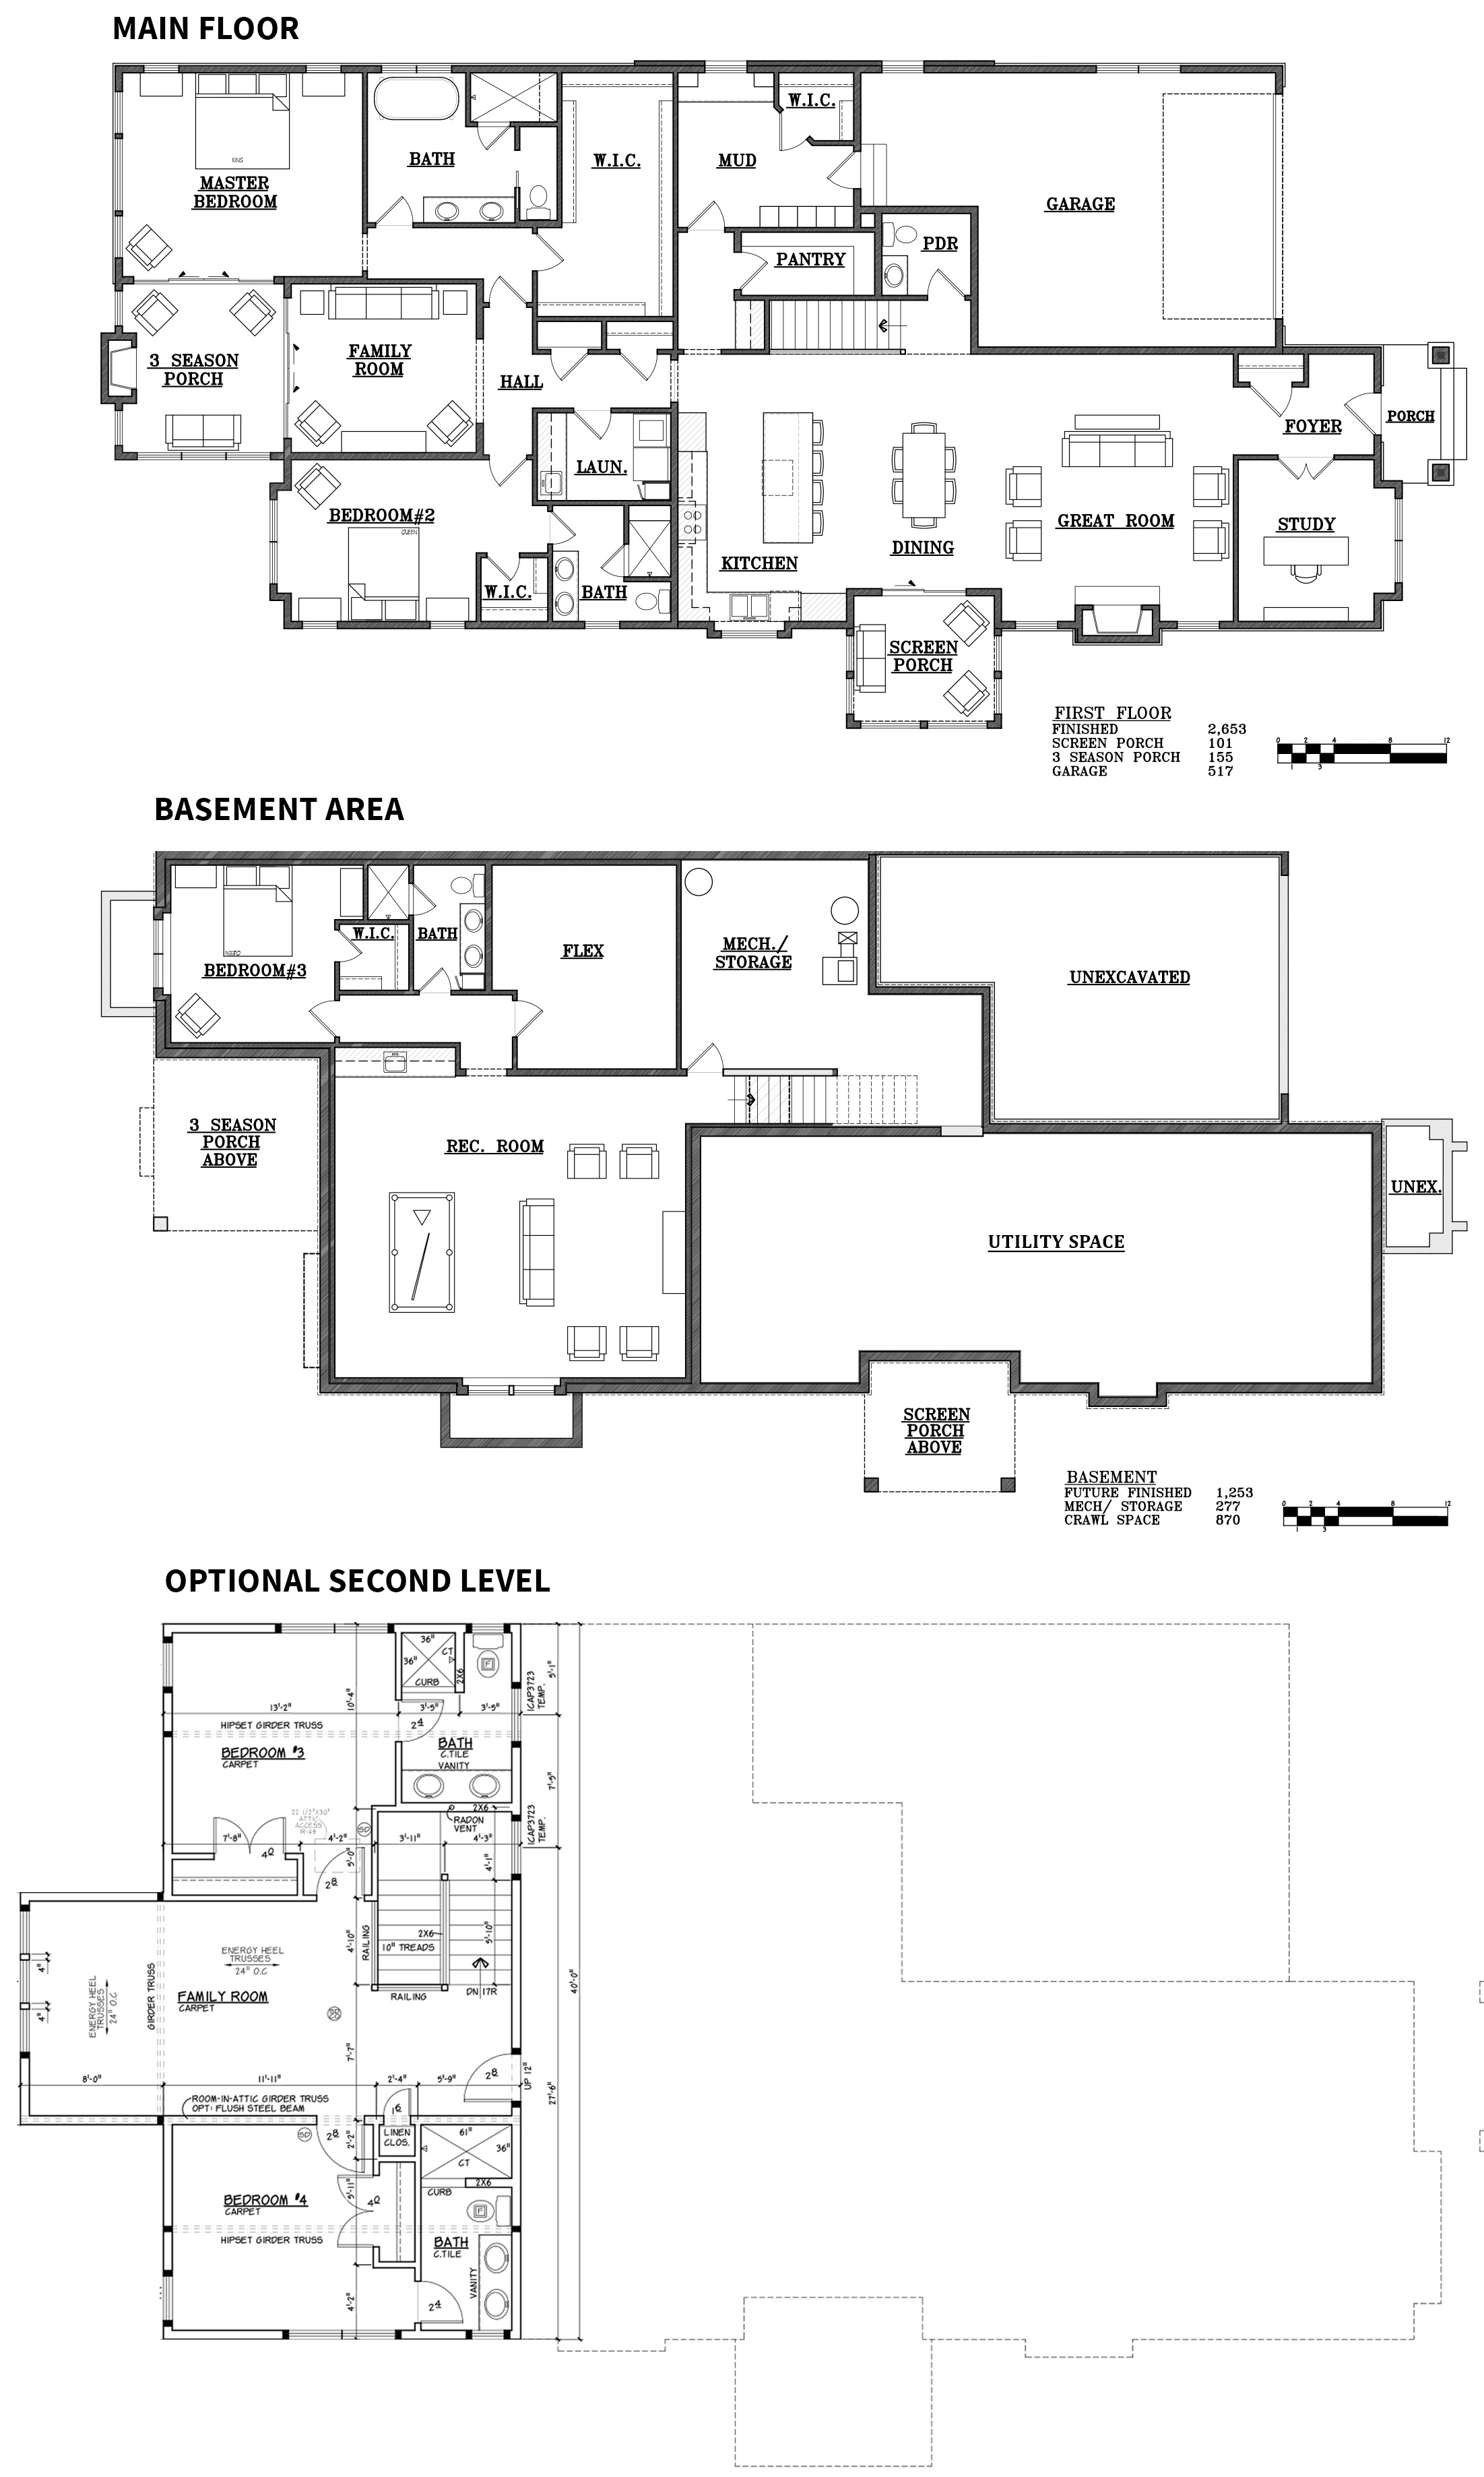door: (1251, 380, 1291, 419), (1343, 392, 1383, 431), (1279, 454, 1334, 481), (687, 1039, 724, 1072), (548, 507, 579, 546), (514, 998, 546, 1037), (306, 1000, 341, 1034), (534, 233, 564, 272), (827, 150, 857, 189), (738, 251, 768, 288), (410, 880, 440, 917), (375, 196, 413, 224), (618, 352, 657, 380), (572, 412, 611, 440), (488, 458, 526, 486), (488, 276, 525, 304), (689, 201, 726, 230), (551, 352, 588, 380), (482, 555, 519, 583), (927, 269, 965, 297), (417, 966, 452, 995)
